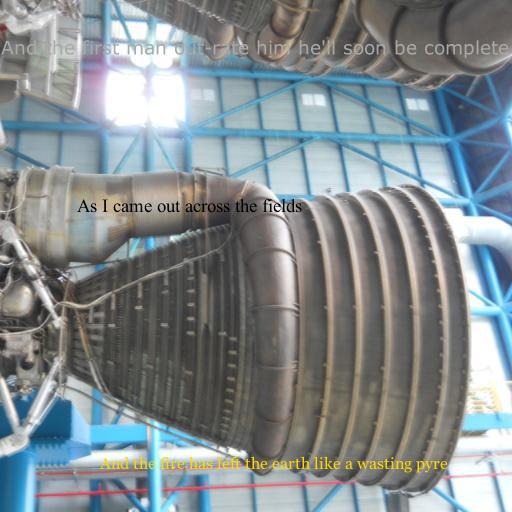Georgia: (100, 456, 448, 473)
Times New Roman: (76, 199, 302, 213)
Verdana: (1, 40, 509, 59)
